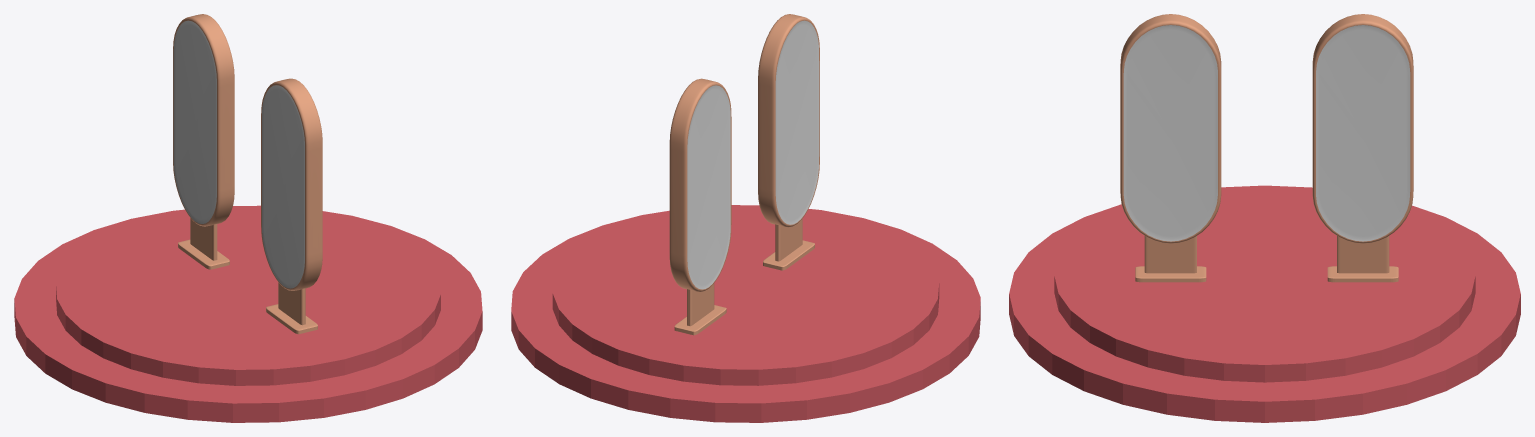
The model's file is Mirror & Centre Platfrom.fbx.
The picture shows the model from 3 angles, left to right: view 1: azimuth 30°, elevation 25°; view 2: azimuth 150°, elevation 25°; view 3: azimuth 270°, elevation 25°; orthographic projection. The views are drawn at different scales.
Visible parts, largest first — view 1: Cylinder.006, Cube.022, Cube.023; view 2: Cylinder.006, Cube.023, Cube.022; view 3: Cylinder.006, Cube.023, Cube.022.
Part boxes in pixels (x1,y1,x2,y2): Cylinder.006: [14, 205, 482, 422]; Cube.022: [261, 78, 322, 334]; Cube.023: [173, 14, 234, 269]; Cylinder.006: [511, 205, 980, 422]; Cube.023: [669, 78, 731, 335]; Cube.022: [758, 14, 819, 270]; Cylinder.006: [1009, 185, 1520, 422]; Cube.023: [1312, 14, 1413, 282]; Cube.022: [1120, 14, 1221, 282].
Size of the model in its own units: 655 by 420 by 655.
